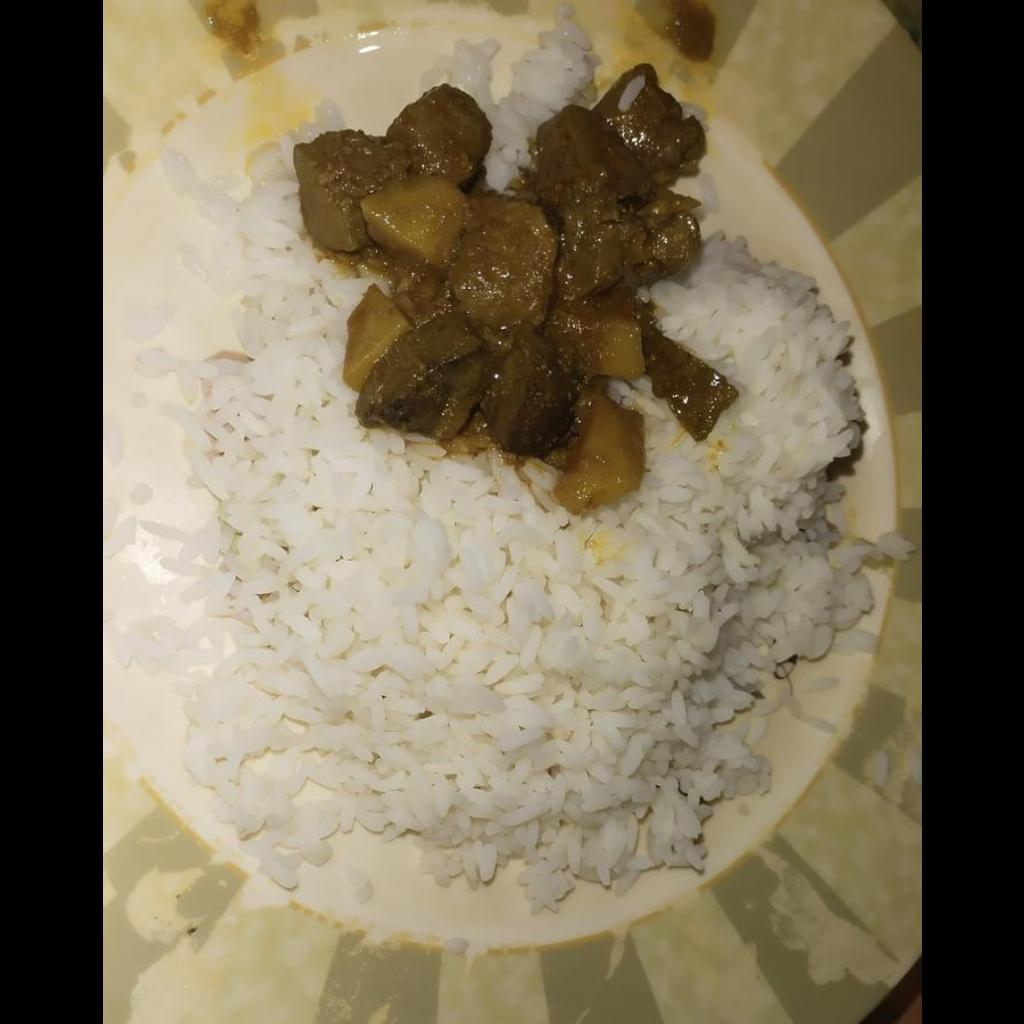beef: (294, 60, 733, 511)
rice: (127, 130, 881, 905)
